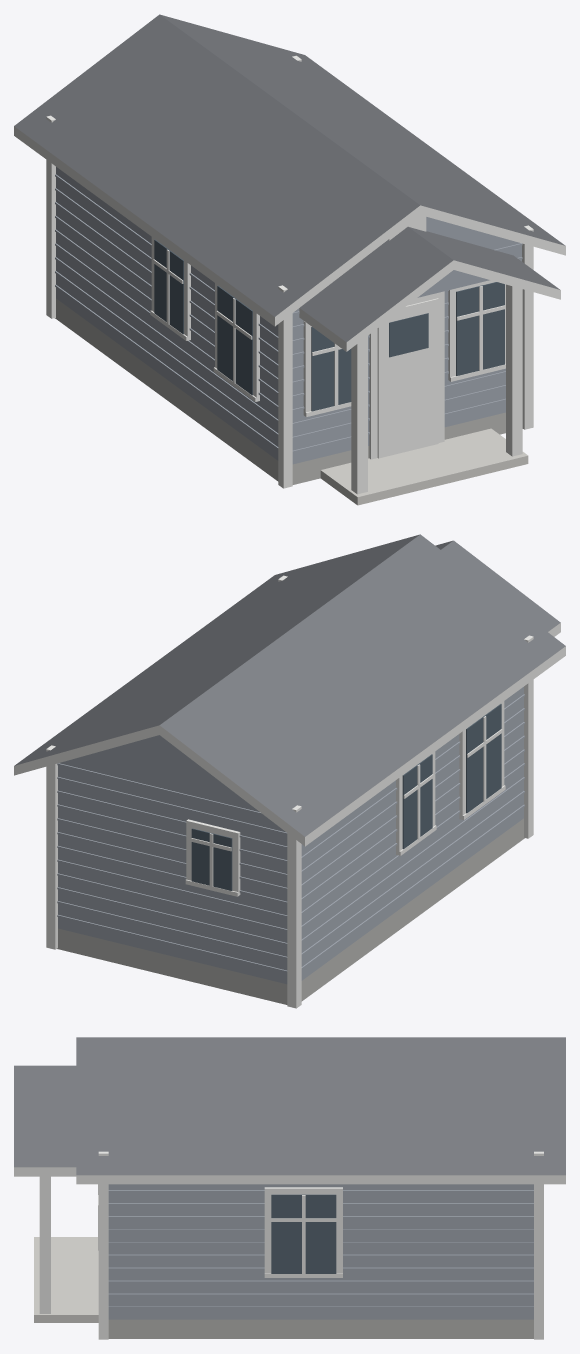
Rendered from pocket-cottage.glb.
3 renders of one model, top to bottom at view 1: azimuth 30°, elevation 25°; view 2: azimuth 150°, elevation 25°; view 3: azimuth 270°, elevation 25°, orthographic. The views are drawn at different scales.
Parts seen in each view (by area): view 1: The Pocket (cottage); view 2: The Pocket (cottage); view 3: The Pocket (cottage).
Boxes of the visible parts, bbox=[...] form: The Pocket (cottage): bbox=[14, 14, 565, 505]; The Pocket (cottage): bbox=[14, 534, 565, 1008]; The Pocket (cottage): bbox=[14, 1037, 565, 1339].
Bounding box in the file's own units: 4.42 × 3.81 × 7.73.
